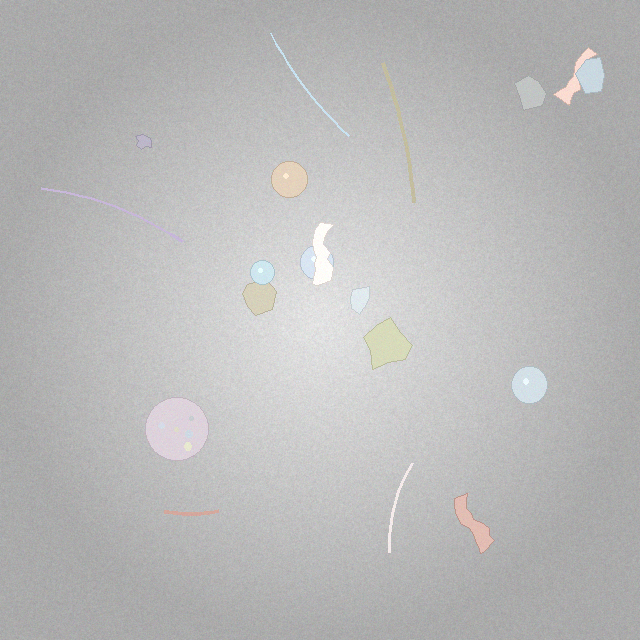fiber: (267, 31, 351, 139), (38, 185, 186, 246), (378, 58, 418, 207), (386, 460, 416, 556), (160, 507, 223, 519)
film: (554, 48, 598, 105), (454, 493, 494, 554), (312, 222, 334, 285)
foam: (146, 397, 209, 460)
fragment: (364, 318, 413, 370), (243, 281, 277, 316), (515, 76, 546, 111), (575, 57, 604, 93), (351, 286, 370, 314), (136, 135, 152, 149)
pellet: (272, 162, 308, 198), (512, 367, 548, 403), (300, 246, 334, 280), (251, 261, 275, 285)
